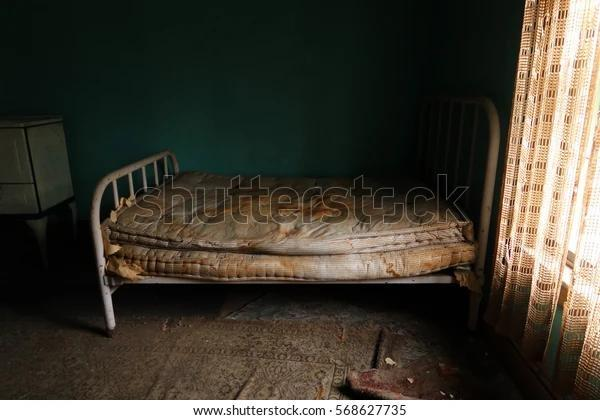Bed-Mattress: (88, 158, 476, 286)
